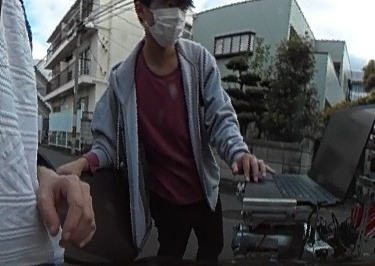person: (77, 0, 261, 266)
